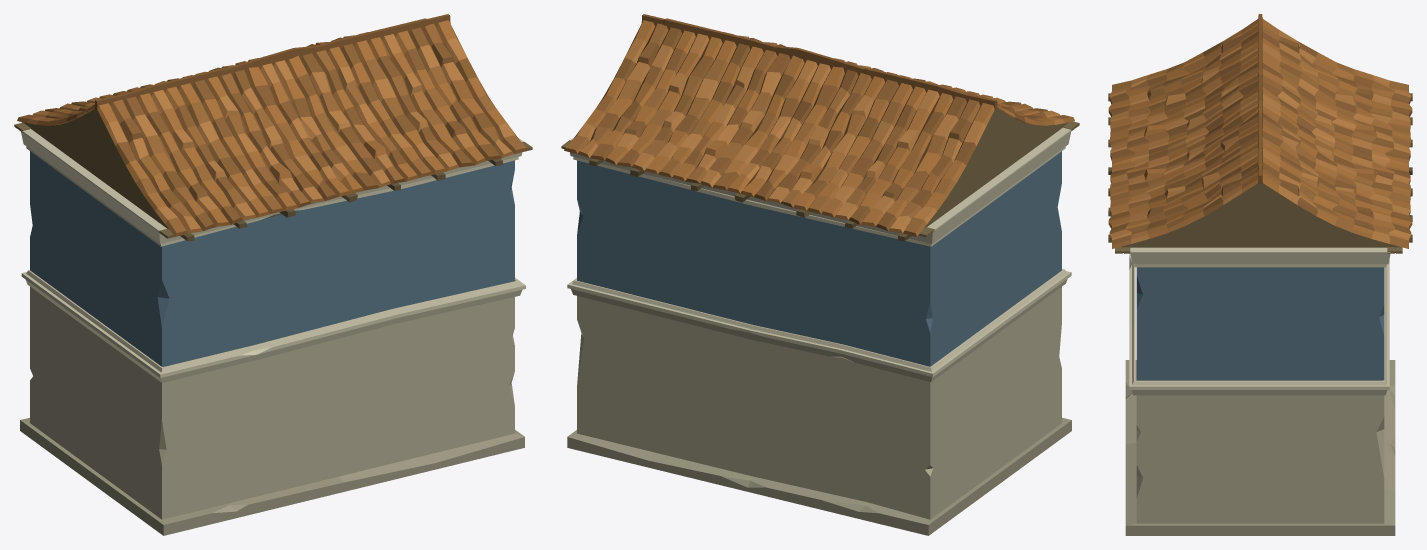
The model's file is BuildingBase_6.fbx.
The picture shows the model from 3 angles, left to right: view 1: azimuth 30°, elevation 25°; view 2: azimuth 150°, elevation 25°; view 3: azimuth 270°, elevation 25°; orthographic projection. The views are drawn at different scales.
Visible parts, largest first — view 1: BuildingBase_6; view 2: BuildingBase_6; view 3: BuildingBase_6.
Part boxes in pixels (box(x1,y1,x2,y2)): BuildingBase_6: box(14, 14, 532, 535); BuildingBase_6: box(561, 14, 1079, 535); BuildingBase_6: box(1108, 14, 1412, 535).
Bounding box in the file's own units: 882 × 887 × 677.
